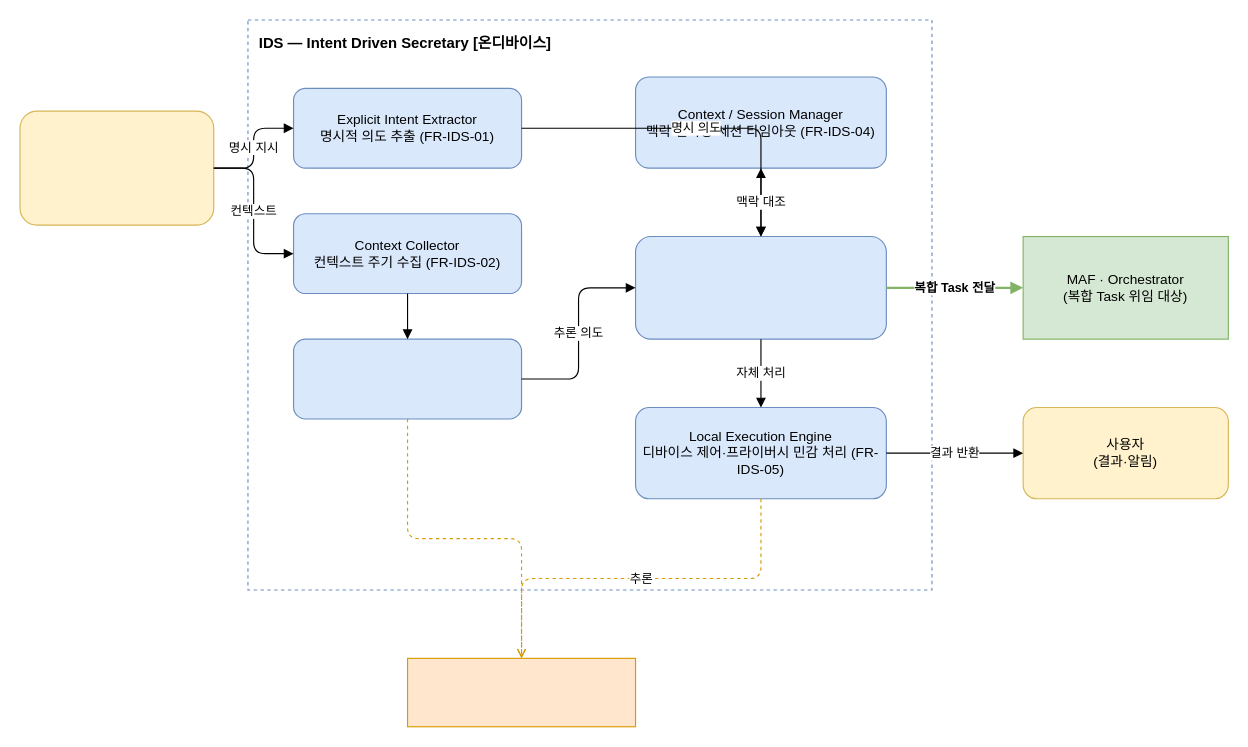
The diagram is 1248 pixels wide and 747 high, and some of its shapes have lost their labels. The box of each missing label's shape, as (x1, y1, x2, y2) in pixels:
Implicit Intent Inferer 비명시적 의도 추론 (FR-IDS-02): (292, 338, 522, 419)
Intent Router / Task Mapper 처리 주체 식별: IDS자체 ↔ MAF (FR-IDS-03): (634, 235, 886, 339)
온디바이스 LLM: (406, 657, 636, 727)
입력 사용자 발화 / 디바이스 컨텍스트 (화면·메시징·GPS·일정·행동패턴): (19, 110, 214, 225)
